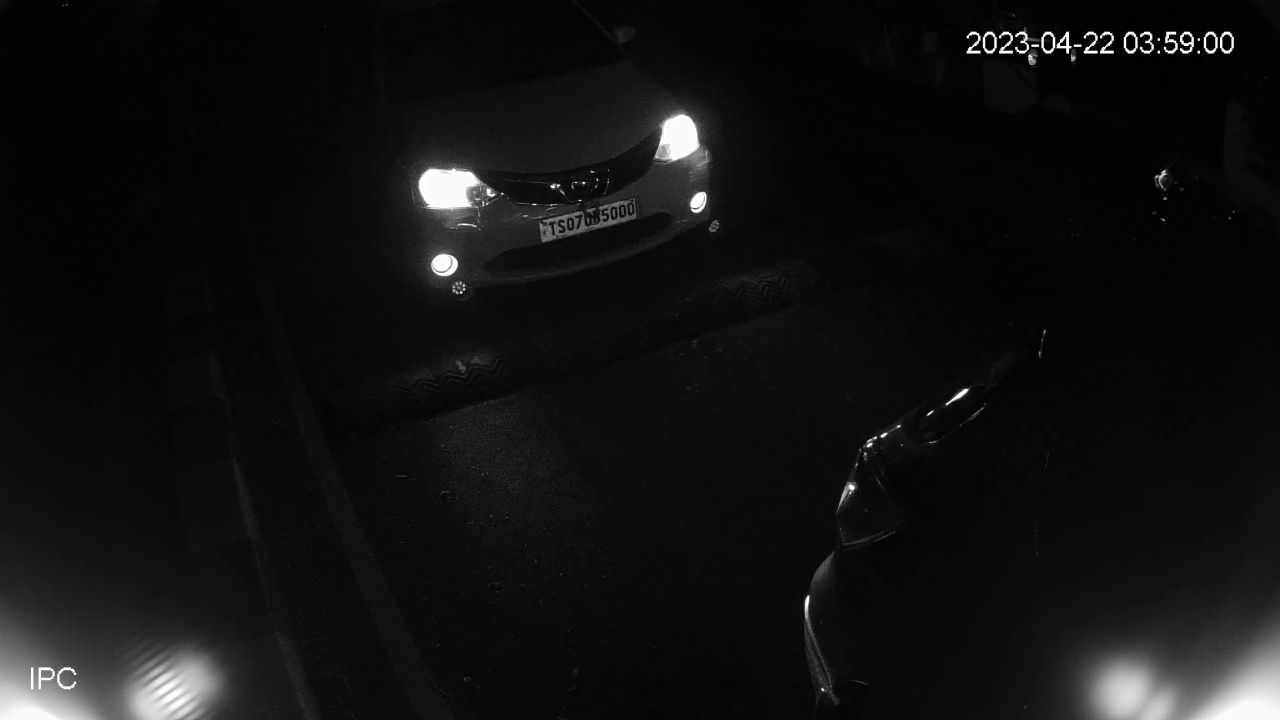license_plate: (537, 194, 639, 249)
